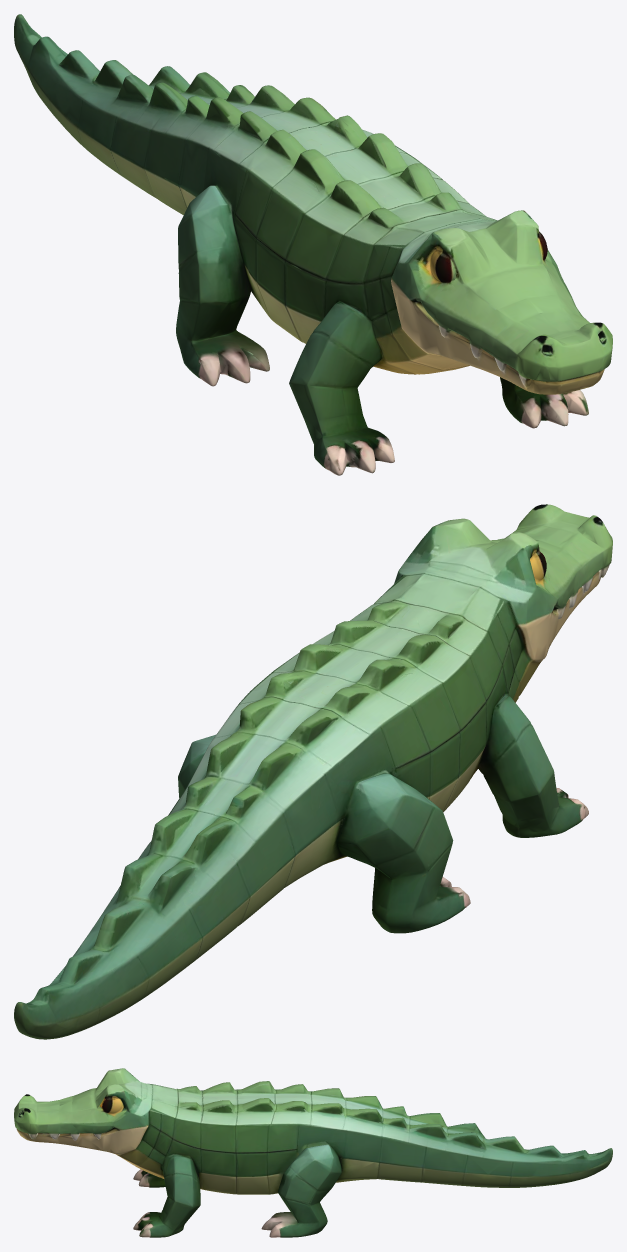
File: crocodile.glb
3 renders of one model, top to bottom at view 1: azimuth 30°, elevation 25°; view 2: azimuth 150°, elevation 25°; view 3: azimuth 270°, elevation 25°, orthographic. The views are drawn at different scales.
Parts seen in each view (by area): view 1: node_0; view 2: node_0; view 3: node_0.
Part boxes in pixels (x1,y1,x2,y2): node_0: (14, 14, 612, 475); node_0: (14, 504, 612, 1039); node_0: (14, 1068, 612, 1237).
Bounding box in the file's own units: 0.3251 × 0.2809 × 1.19.
Materials: 1 (1 with a texture image).
